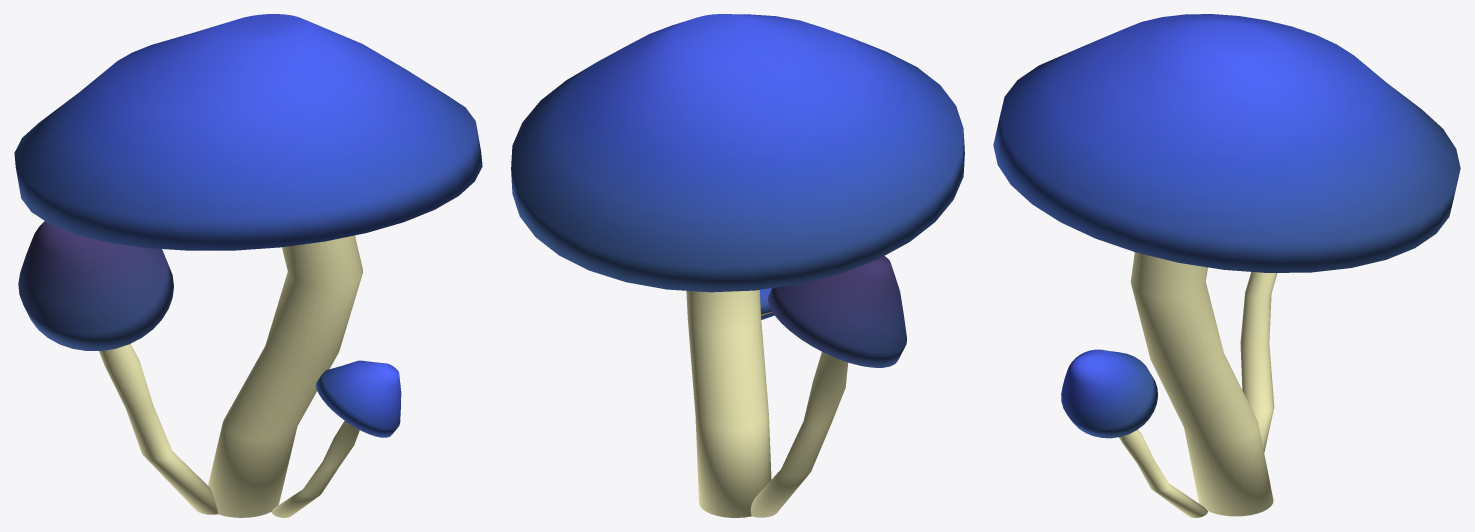
File: mushroom09.fbx
3 views of the same model, side by side, from view 1: azimuth 30°, elevation 25°; view 2: azimuth 150°, elevation 25°; view 3: azimuth 270°, elevation 25° (orthographic). The views are drawn at different scales.
Visible parts, largest first — view 1: MushroomSmall.004; view 2: MushroomSmall.004; view 3: MushroomSmall.004.
Boxes of the visible parts, x1,y1,x2,y2 form: MushroomSmall.004: (14,14,482,517); MushroomSmall.004: (511,14,964,517); MushroomSmall.004: (993,14,1460,517).
Size of the model in its own units: 25.95 by 29.31 by 25.99.
